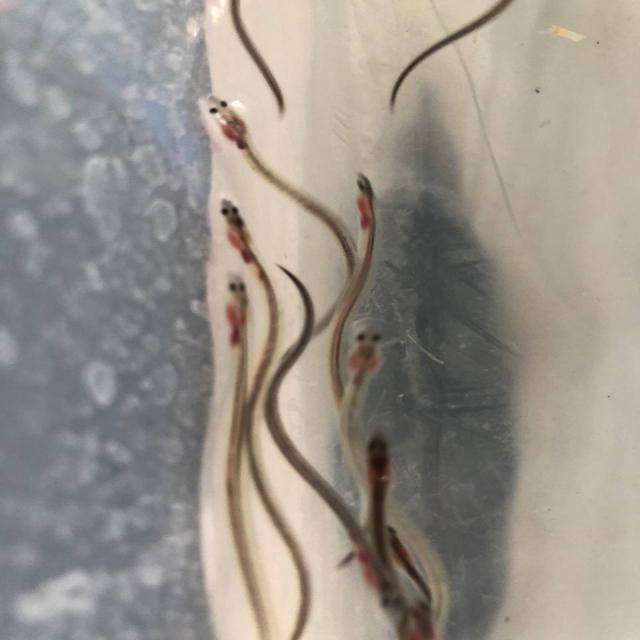glass_eel: (194, 191, 273, 266), (183, 84, 262, 154), (326, 321, 392, 400), (198, 270, 261, 348), (339, 171, 398, 247), (347, 428, 401, 494), (394, 578, 450, 630), (360, 566, 410, 622)
